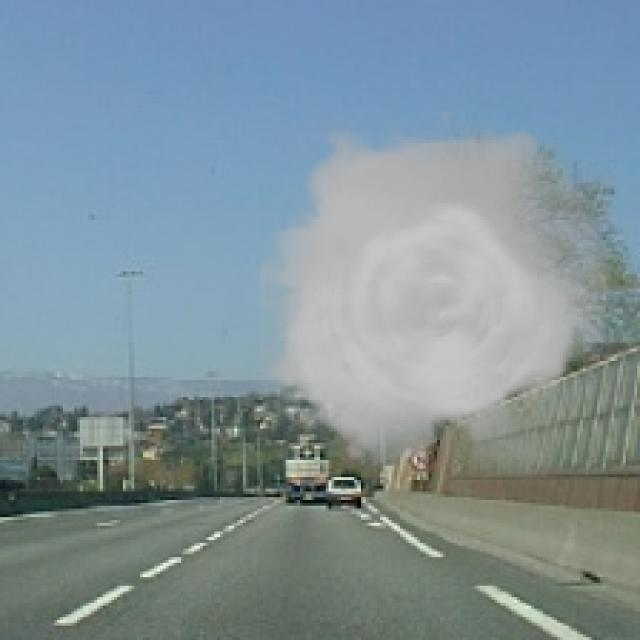smoke: (260, 111, 611, 480)
